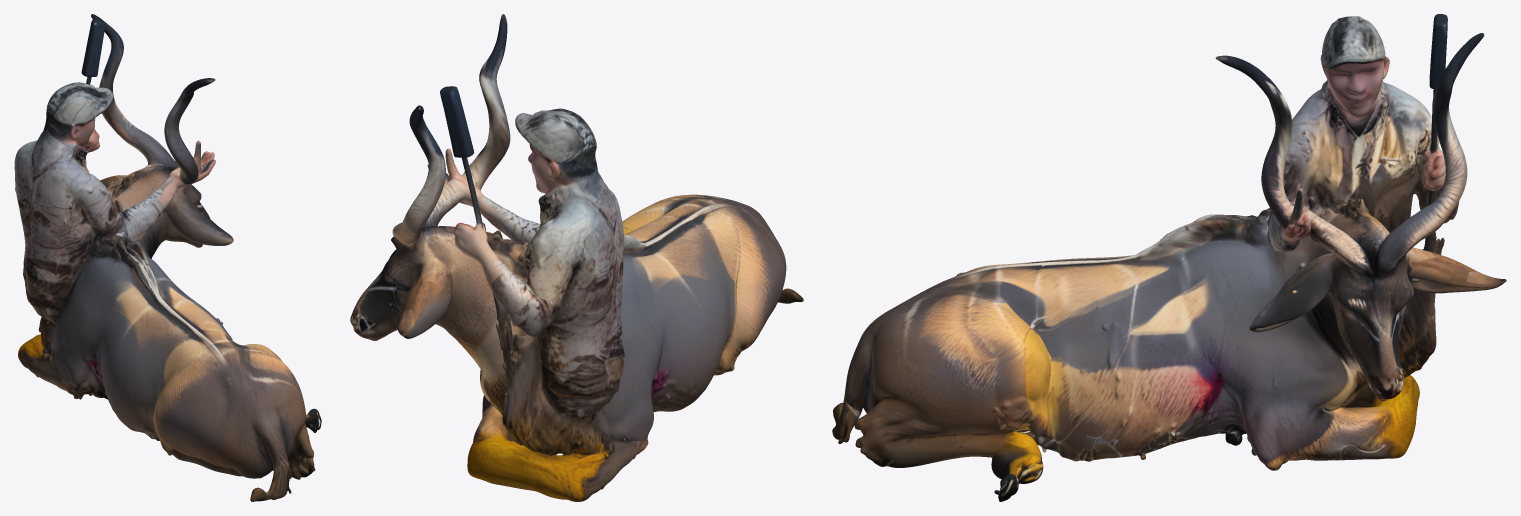
File: model-compressed-1773313359536-tpe4yr0e69i.glb
3 renders of one model, left to right at view 1: azimuth 30°, elevation 25°; view 2: azimuth 150°, elevation 25°; view 3: azimuth 270°, elevation 25°, orthographic. The views are drawn at different scales.
Parts seen in each view (by area): view 1: tripo_node_cb4f6bd1-1db2-45dc-83c7-0989f60aba00; view 2: tripo_node_cb4f6bd1-1db2-45dc-83c7-0989f60aba00; view 3: tripo_node_cb4f6bd1-1db2-45dc-83c7-0989f60aba00.
Boxes of the visible parts, x1,y1,x2,y2 form: tripo_node_cb4f6bd1-1db2-45dc-83c7-0989f60aba00: (14, 14, 321, 501); tripo_node_cb4f6bd1-1db2-45dc-83c7-0989f60aba00: (350, 14, 803, 501); tripo_node_cb4f6bd1-1db2-45dc-83c7-0989f60aba00: (832, 14, 1506, 501).
Bounding box in the file's own units: 0.4728 × 0.7323 × 1.
Materials: 1 (1 with a texture image).
